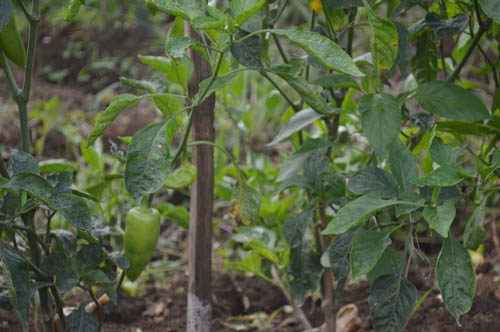ChiliPepper: (119, 207, 161, 284)
